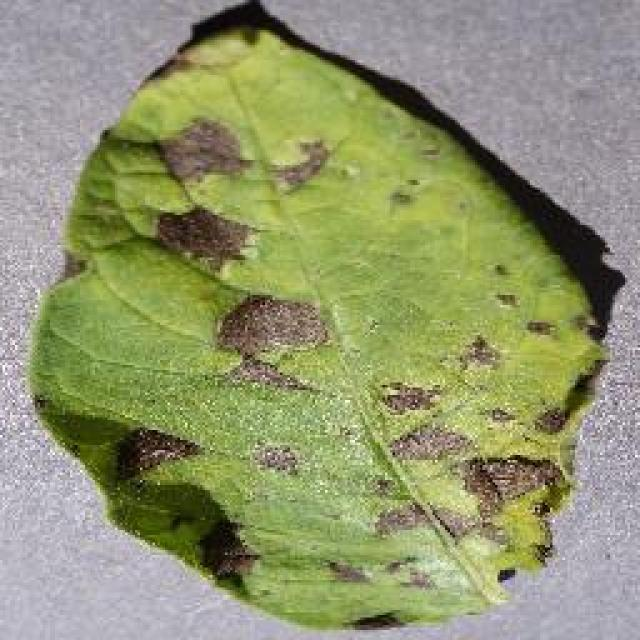Potato: (25, 0, 612, 632)
